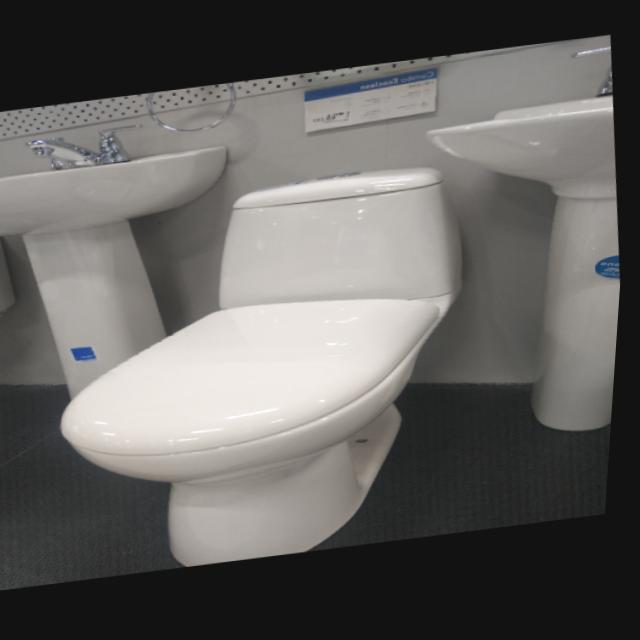toilet: (35, 159, 502, 582)
